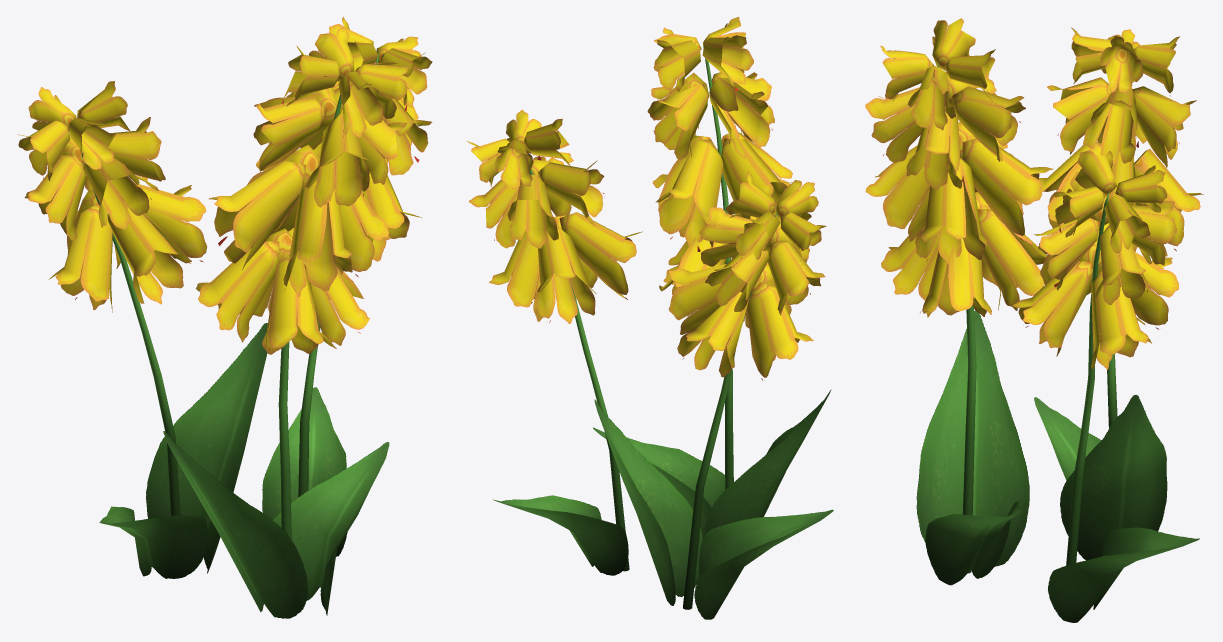
Rendered from Flower_4_Group_s.gltf.
The picture shows the model from 3 angles, left to right: view 1: azimuth 30°, elevation 25°; view 2: azimuth 150°, elevation 25°; view 3: azimuth 270°, elevation 25°; orthographic projection. The views are drawn at different scales.
Parts seen in each view (by area): view 1: Flower_4_Group; view 2: Flower_4_Group; view 3: Flower_4_Group.
Part boxes in pixels (x1,y1,x2,y2): Flower_4_Group: (17, 17, 432, 618); Flower_4_Group: (467, 17, 833, 619); Flower_4_Group: (865, 18, 1203, 622).
Bounding box in the file's own units: 1.78 × 2.47 × 1.35.
2 materials, 2 textured.
